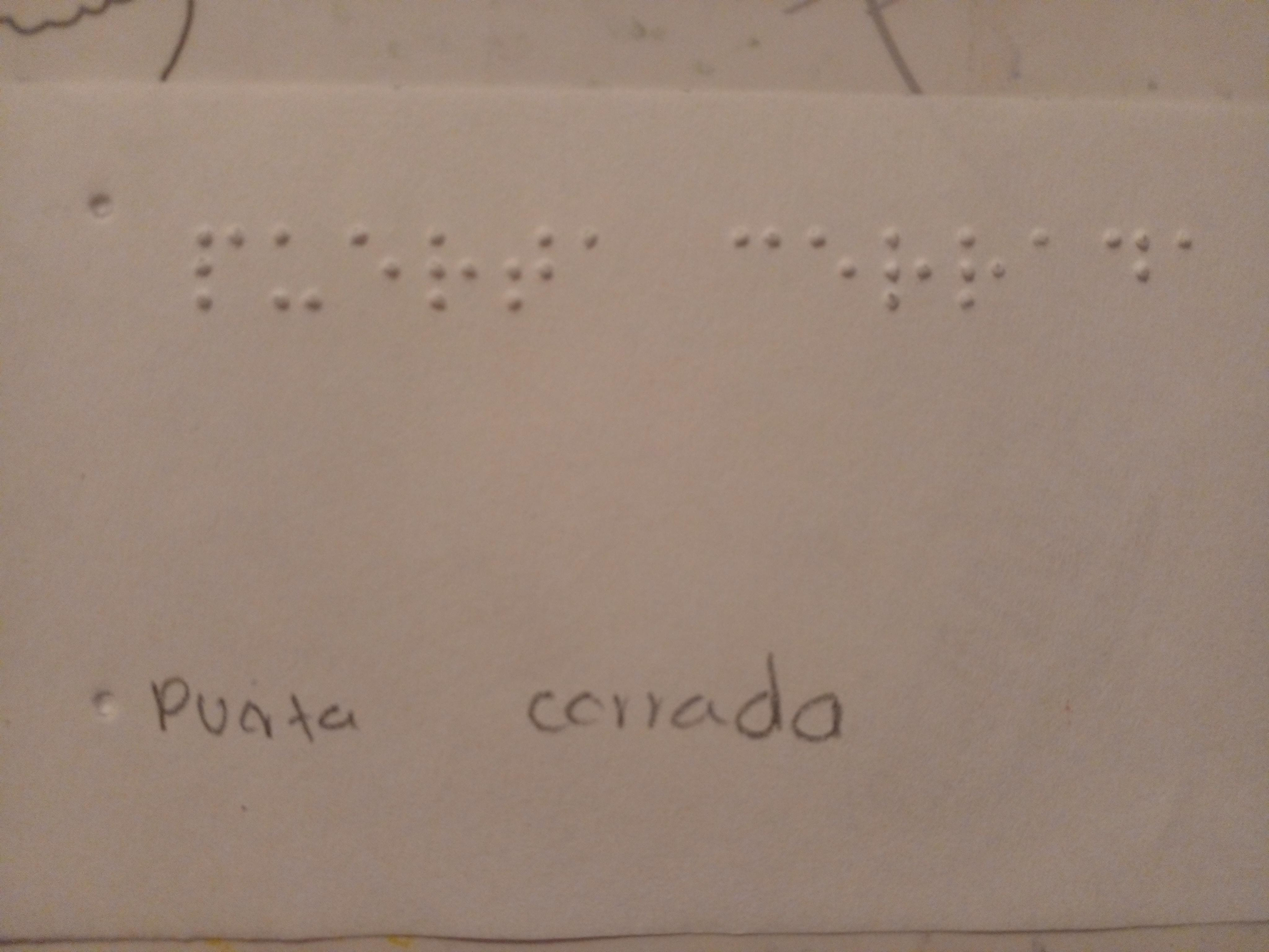a: (567, 223, 623, 268), (1159, 220, 1207, 262), (1019, 217, 1056, 263)
c: (723, 218, 792, 273)
d: (1091, 217, 1157, 294)
e: (798, 223, 866, 294), (342, 222, 403, 299)
p: (181, 215, 252, 316)
r: (414, 220, 486, 318), (881, 223, 945, 322), (948, 228, 1012, 324)
t: (499, 220, 558, 319)
u: (257, 228, 333, 324)
